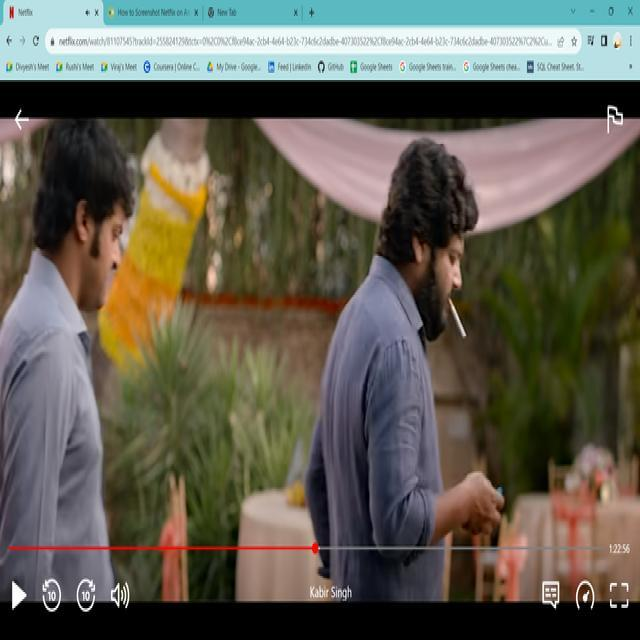smoking: (437, 281, 470, 347)
